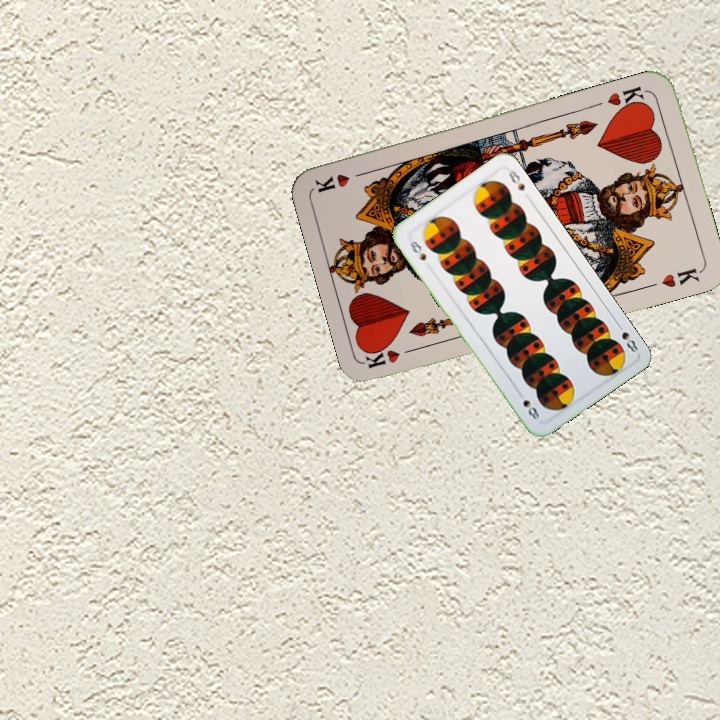HK: (362, 342, 422, 372), (603, 82, 651, 115)
S8: (612, 319, 641, 355), (406, 237, 429, 263)
